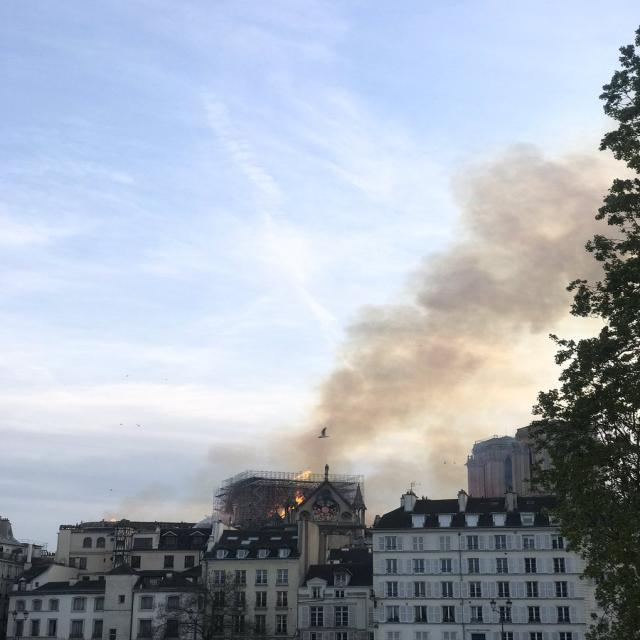Fire: (272, 467, 320, 522)
Smoke: (224, 138, 640, 468), (108, 444, 234, 526)
